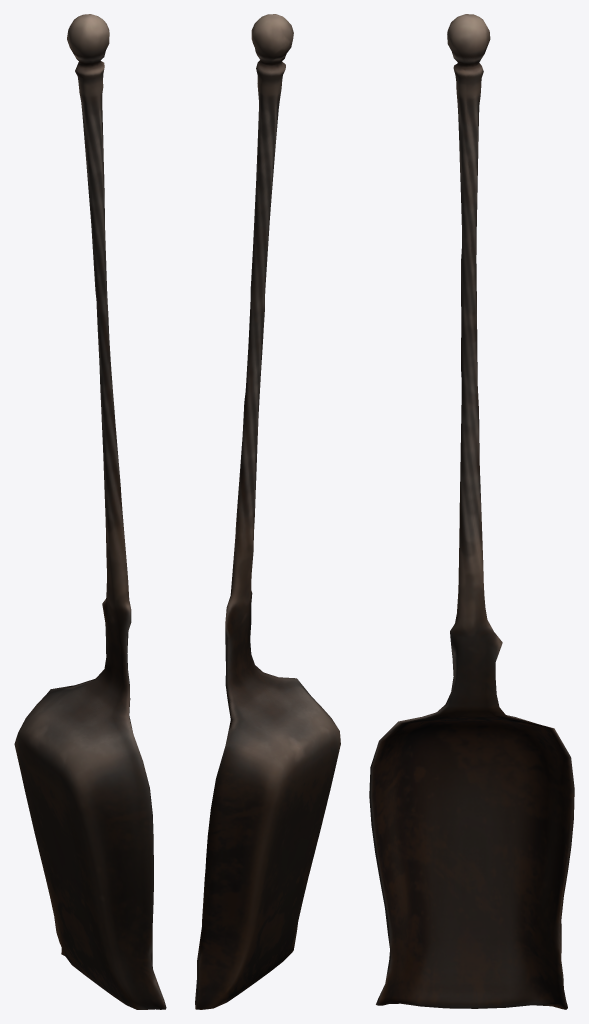
File: SM_FireToolsShovel.FBX
The picture shows the model from 3 angles, left to right: view 1: azimuth 30°, elevation 25°; view 2: azimuth 150°, elevation 25°; view 3: azimuth 270°, elevation 25°; orthographic projection.
Visible parts, largest first — view 1: SM_FireToolsShovel; view 2: SM_FireToolsShovel; view 3: SM_FireToolsShovel.
Boxes of the visible parts, x1,y1,x2,y2 form: SM_FireToolsShovel: (14,14,166,1009); SM_FireToolsShovel: (195,14,340,1009); SM_FireToolsShovel: (369,14,574,1009).
Size of what is drawn, in the model's own units: 8.84 by 19.13 by 101.
